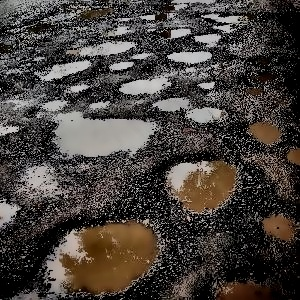pothole: (32, 214, 163, 297), (44, 112, 161, 161), (161, 154, 240, 213), (191, 263, 290, 299), (252, 203, 299, 244), (65, 37, 139, 57), (242, 116, 284, 146), (36, 58, 94, 79), (198, 10, 252, 31), (116, 74, 173, 93), (183, 105, 229, 125), (0, 197, 25, 229), (165, 47, 211, 63), (150, 95, 191, 111), (156, 26, 196, 38), (193, 32, 223, 43), (108, 60, 133, 71), (284, 145, 299, 163), (197, 79, 216, 90)
